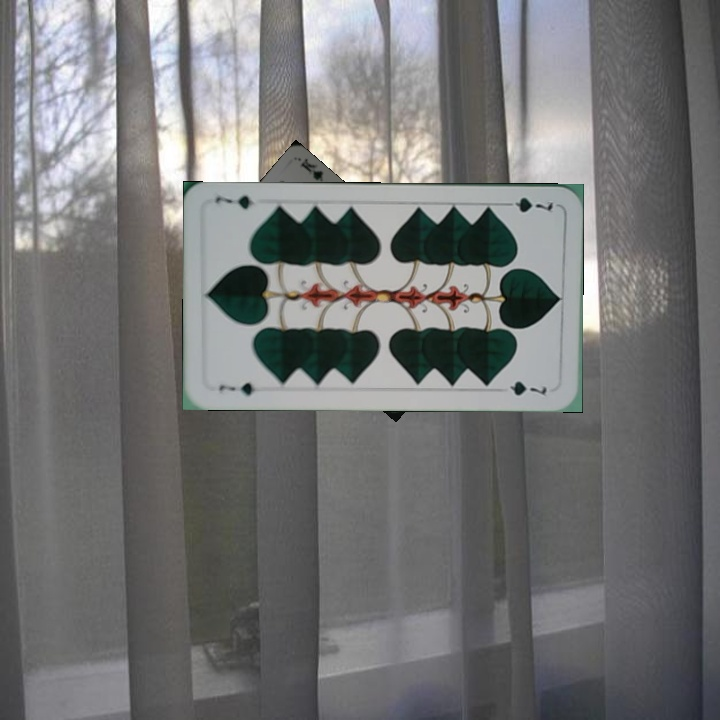G7: (498, 193, 555, 215), (215, 379, 266, 398)
